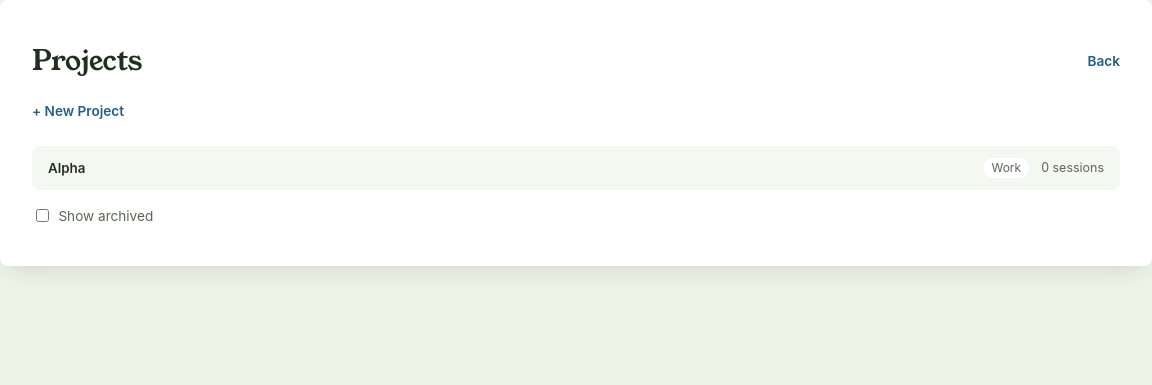
Test case: Projects › returns to the list view via "All projects"
Click the button "Alpha Work 0 sessions".
click(67, 168)  # box [32,146,1120,190]
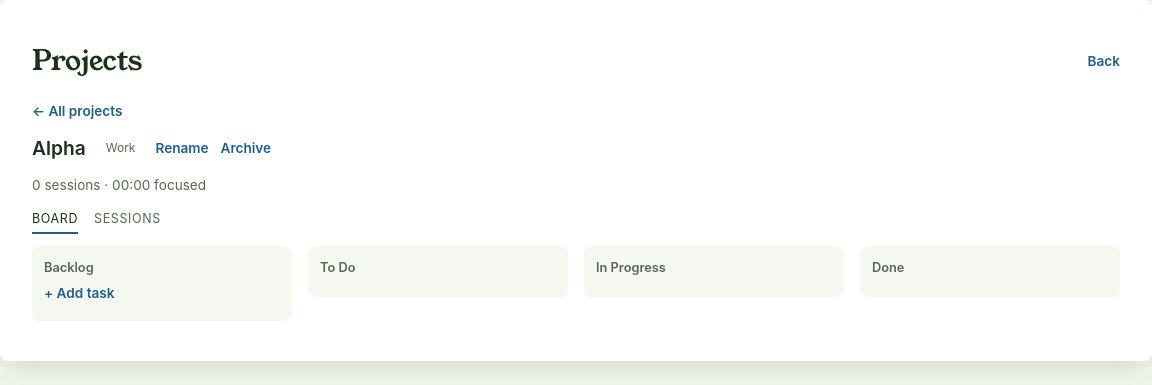
Expected: the heading "Alpha" is shown, [32,134,86,163]
Click the button "← All projects".
click(77, 111)  # box [32,103,122,119]
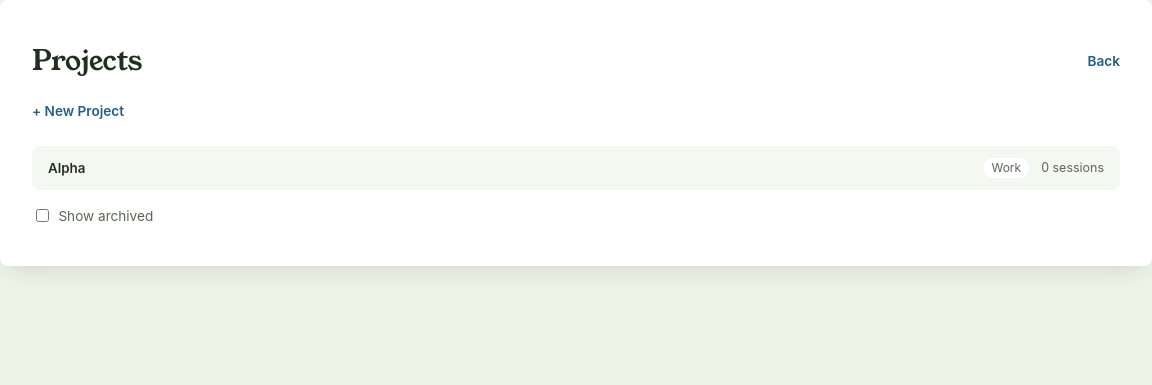
Expected: the button "Alpha Work 0 sessions" is shown, [32,146,1120,190]
